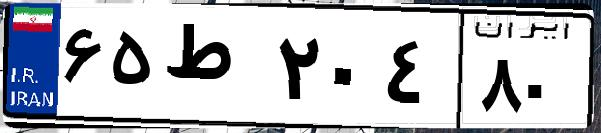0: (330, 28, 385, 110), (525, 38, 570, 115)
2: (270, 28, 330, 110)
4: (385, 28, 445, 110)
5: (110, 28, 158, 98)
6: (57, 26, 110, 100)
8: (475, 38, 525, 113)
ط: (158, 20, 270, 120)
